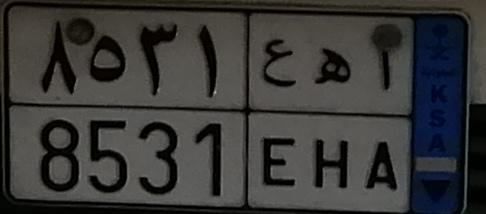1: (195, 24, 224, 199)
3: (138, 21, 180, 197)
5: (87, 34, 129, 192)
8: (37, 21, 81, 193)
A: (362, 41, 398, 191)
E: (260, 39, 297, 187)
H: (312, 46, 351, 191)
